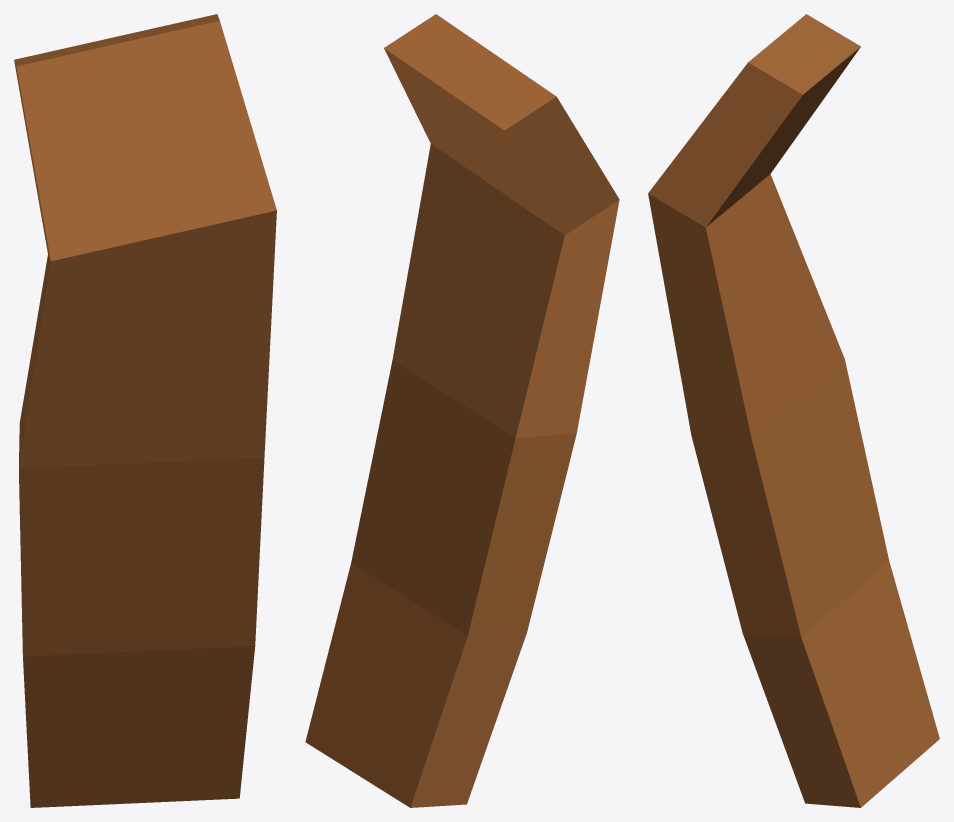
The model's file is barrel-018.glb.
3 renders of one model, left to right at view 1: azimuth 30°, elevation 25°; view 2: azimuth 150°, elevation 25°; view 3: azimuth 270°, elevation 25°, orthographic. The views are drawn at different scales.
Visible parts, largest first — view 1: barrel.018; view 2: barrel.018; view 3: barrel.018.
Part boxes in pixels (left/top/right/bottom): barrel.018: left=14, top=14, right=276, bottom=807; barrel.018: left=305, top=14, right=619, bottom=807; barrel.018: left=648, top=14, right=939, bottom=807.
Size of the model in its own units: 1.61 by 4.58 by 1.68.
